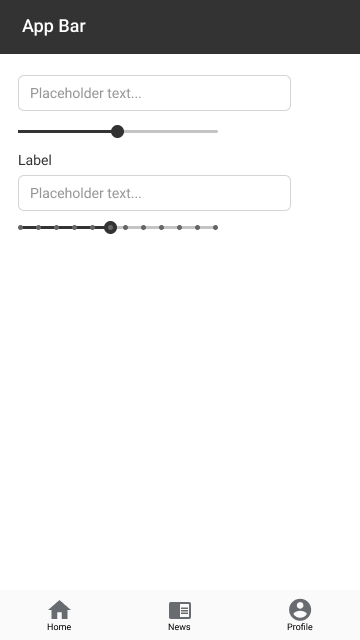editText: (15, 173, 294, 214), (16, 74, 294, 113)
navigationButton: (1, 592, 360, 640)
slider: (16, 220, 222, 233)
slider1: (15, 121, 221, 140)
textView: (14, 150, 54, 170)
toolbar: (2, 1, 360, 56)
